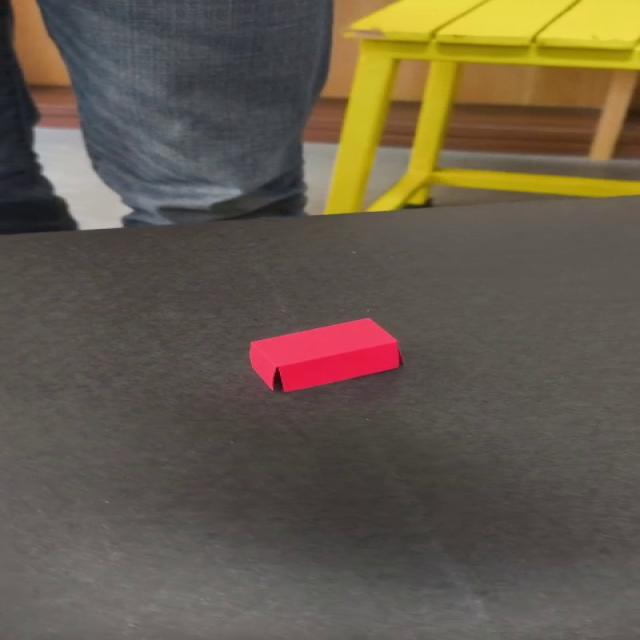red block: (247, 316, 402, 393)
